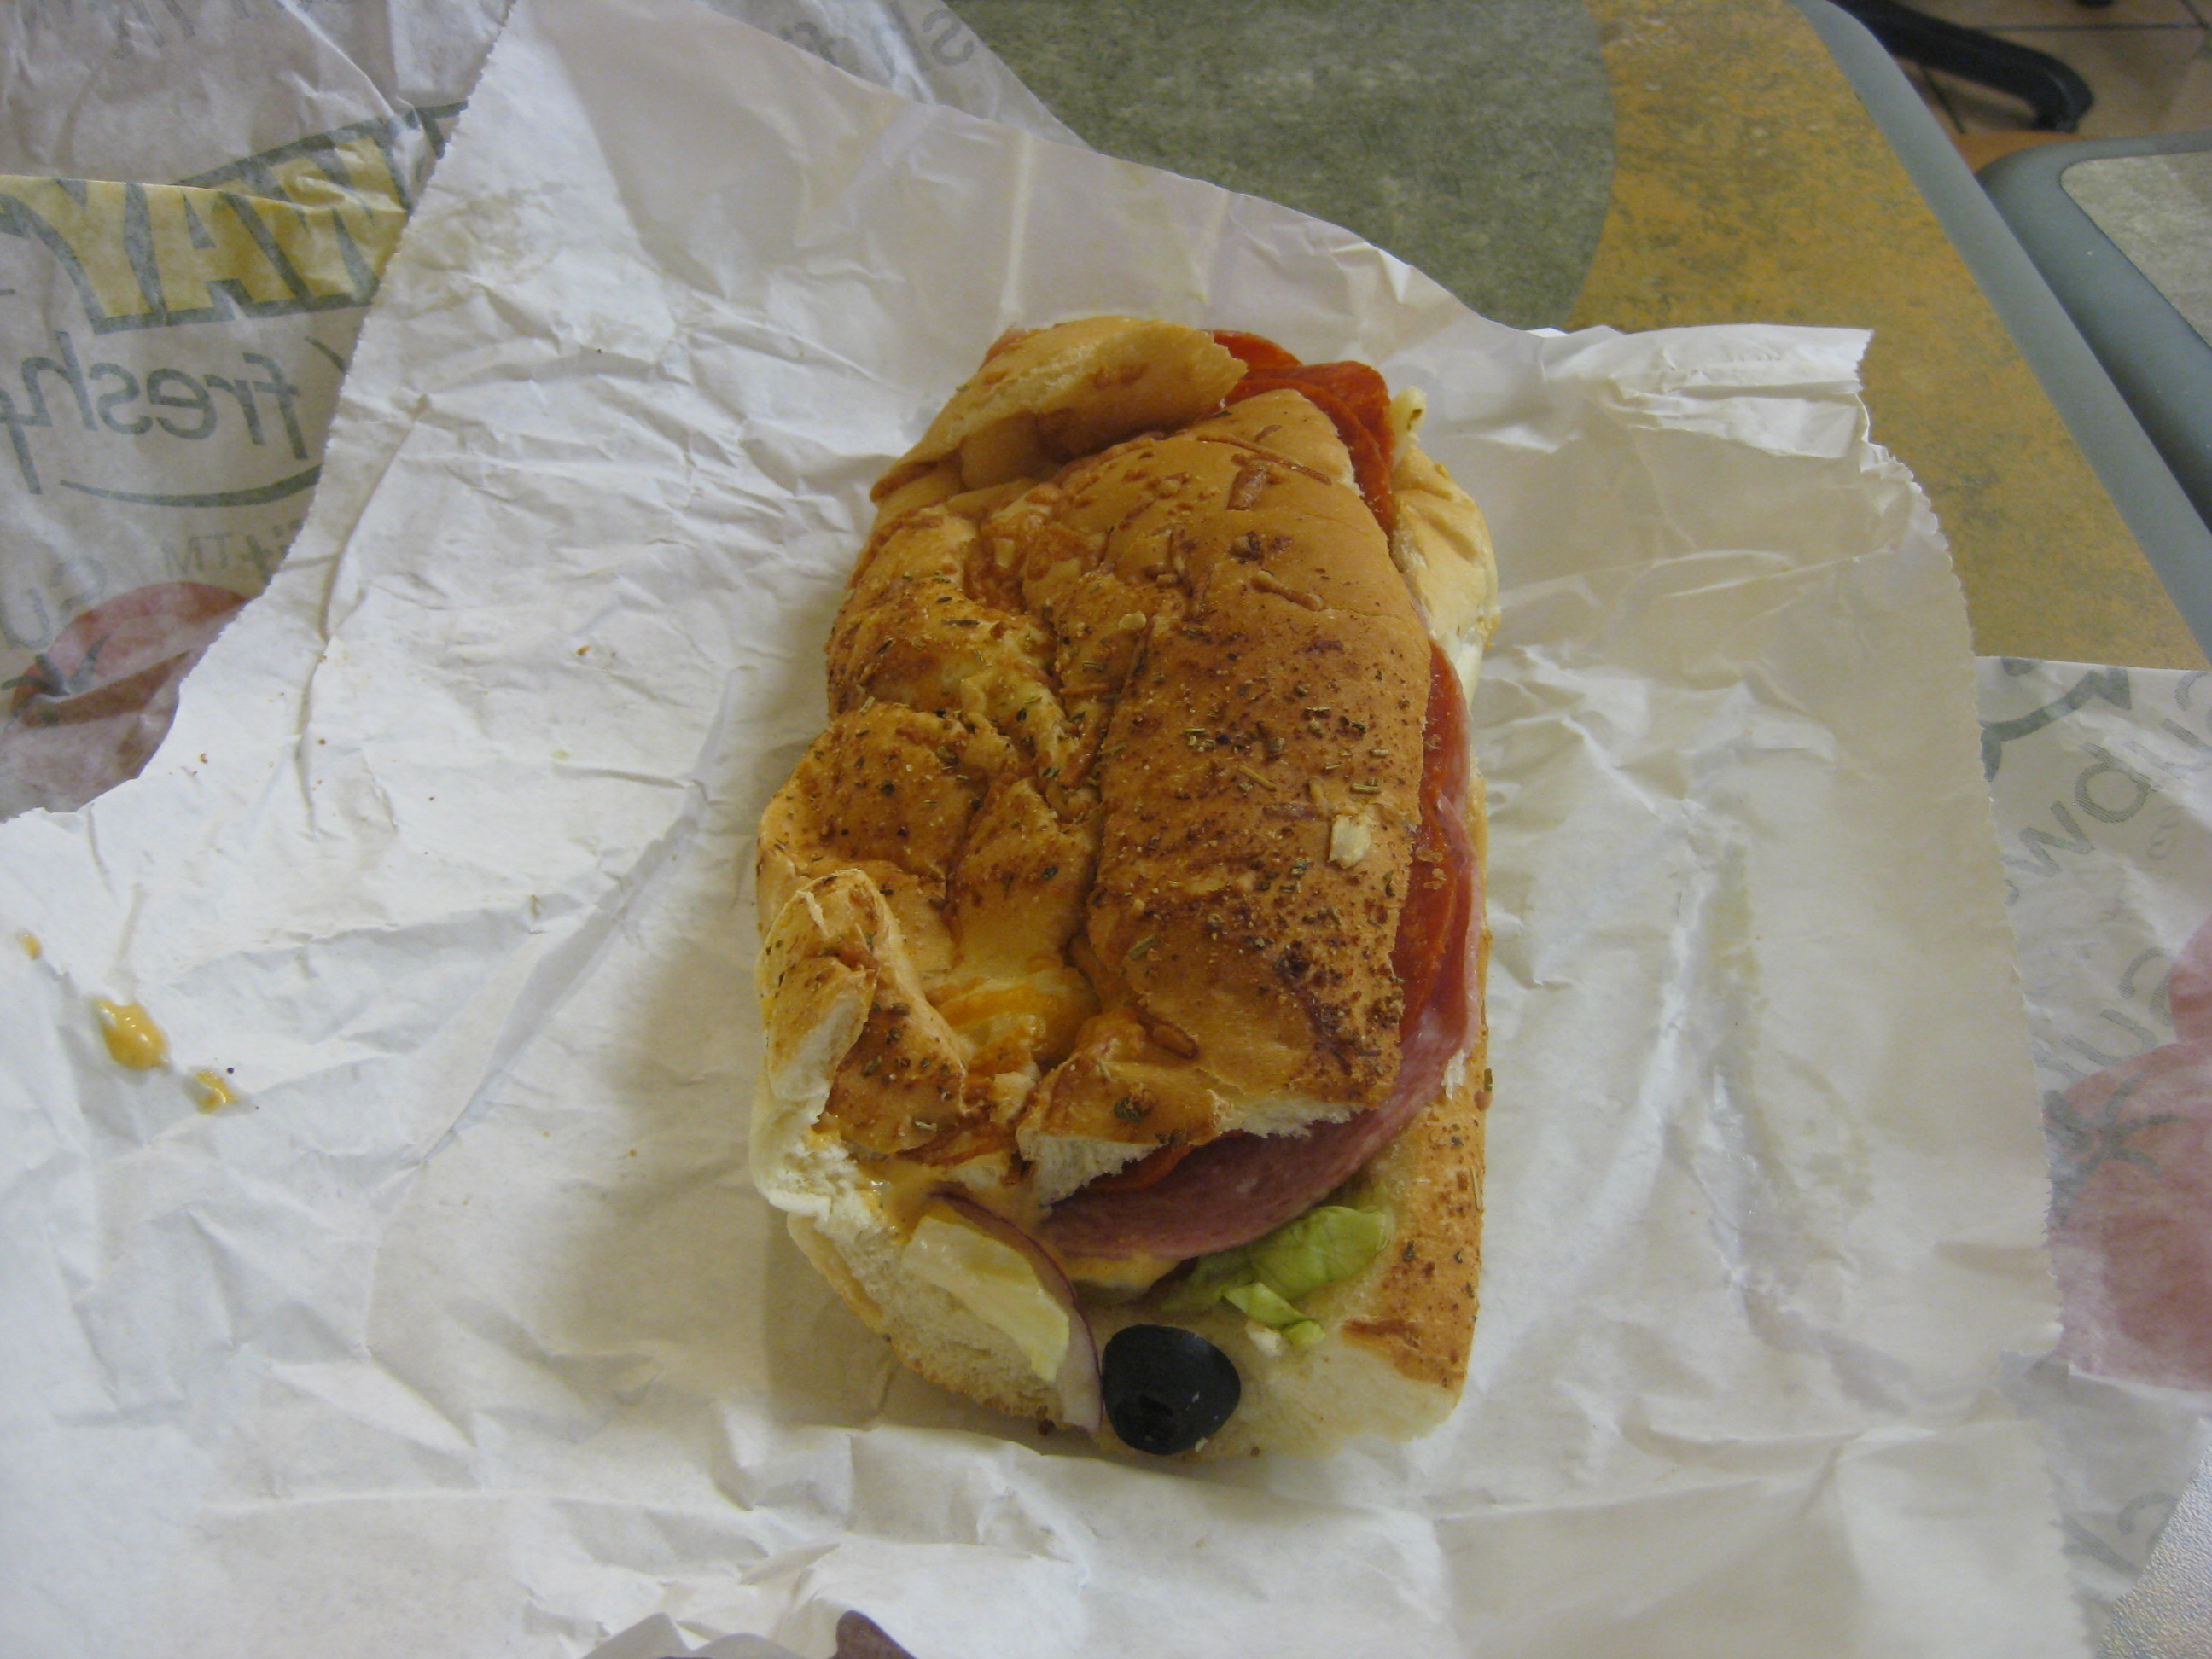sub: (738, 336, 1626, 1492)
